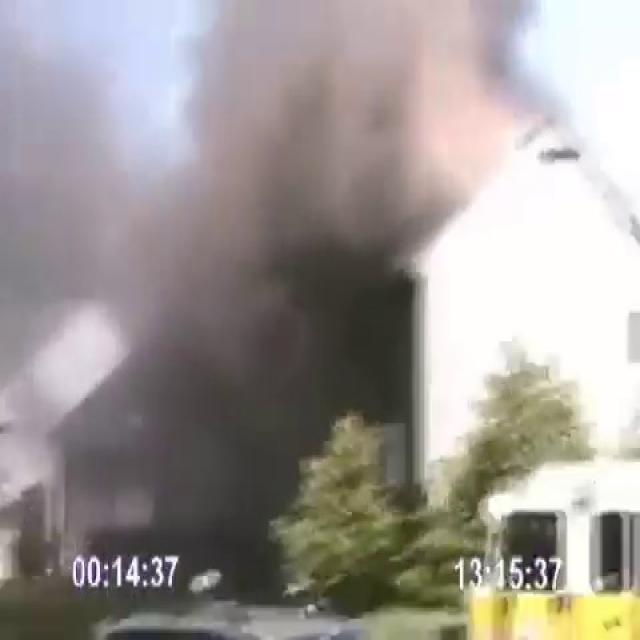Smoke: (4, 0, 592, 585)
